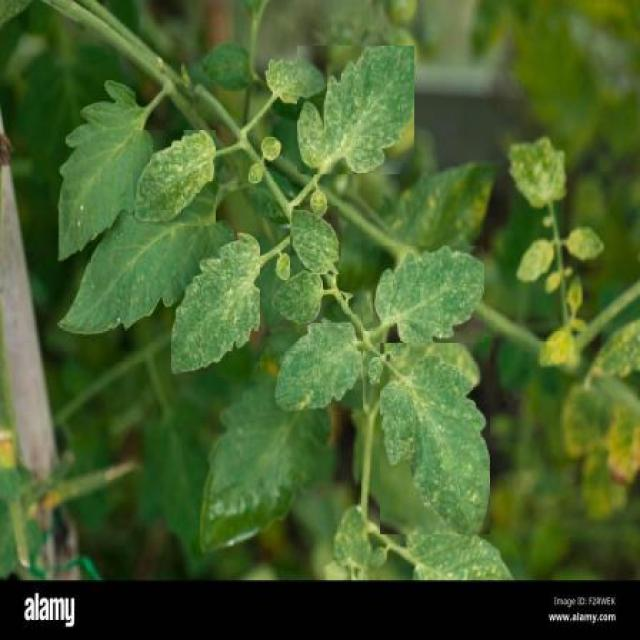Spider Mites: (380, 337, 490, 534), (298, 46, 415, 174), (170, 229, 260, 375), (374, 246, 485, 343), (272, 314, 364, 414), (133, 130, 216, 226), (290, 206, 339, 275), (272, 269, 322, 322)
